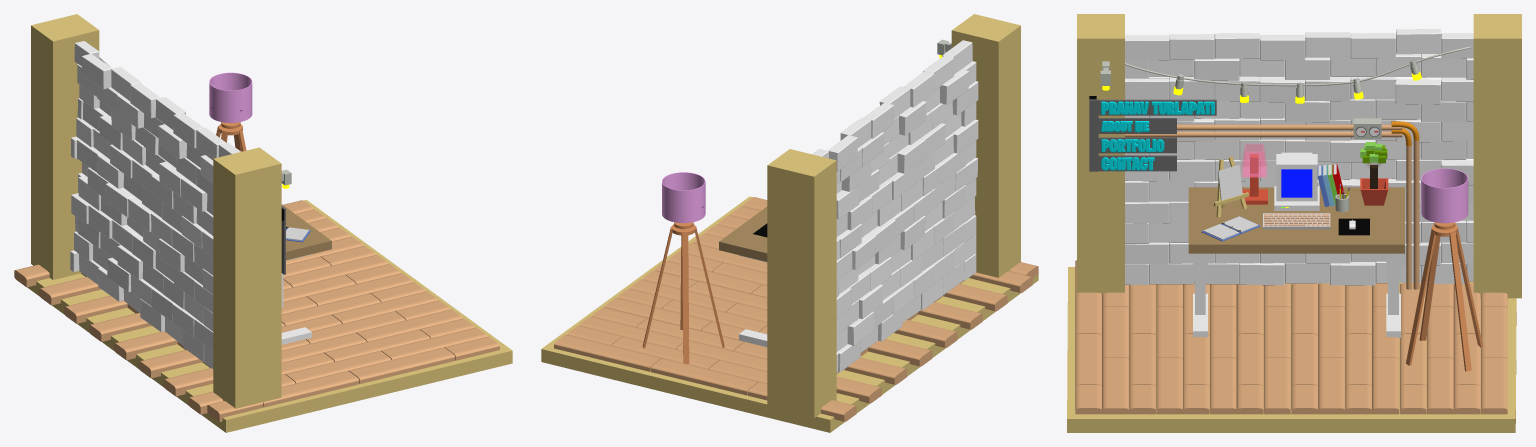
Rendered from personal_site.glb.
3 renders of one model, left to right at view 1: azimuth 30°, elevation 25°; view 2: azimuth 150°, elevation 25°; view 3: azimuth 270°, elevation 25°, orthographic. The views are drawn at different scales.
Visible parts, largest first — view 1: Cube.001, Cube, Cube.004, Cylinder.028, Cube.005, Cube.122, Cube.006, Cube.007, Cube.096, Cube.020, Cube.093, Cube.102 (+52 smaller); view 2: Cube, Cube.001, Cube.004, Cylinder.027, Cylinder.028, Cube.128, Cube.127, Cylinder.001, Cube.115, Cube.133, Cube.108, Cube.093 (+50 smaller); view 3: Cube, Cube.004, Cube.001, Cylinder.001, Cylinder.026, Cylinder.027, Cube.008, Cylinder.028, Cylinder.034, Text.003, Cube.006, Cube.102 (+127 smaller).
Boxes of the visible parts, x1,y1,x2,y2 form: Cube.001: (213, 147, 281, 408); Cube: (31, 14, 99, 279); Cube.004: (27, 200, 512, 432); Cylinder.028: (209, 72, 252, 122); Cube.005: (348, 347, 455, 383); Cube.122: (263, 371, 359, 407); Cube.006: (380, 327, 487, 359); Cube.007: (356, 309, 462, 341); Cube.096: (285, 351, 391, 383); Cube.020: (331, 291, 437, 323); Cube.093: (306, 273, 412, 305); Cube.102: (283, 255, 387, 287); Cube: (767, 149, 836, 417); Cube.001: (951, 14, 1020, 277); Cube.004: (541, 196, 1038, 432); Cylinder.027: (642, 206, 724, 363); Cylinder.028: (662, 172, 705, 223); Cube.128: (651, 358, 758, 395); Cube.127: (554, 335, 661, 371); Cylinder.001: (719, 206, 767, 261); Cube.115: (579, 316, 682, 349); Cube.133: (612, 336, 719, 369); Cube.108: (604, 298, 712, 331); Cube.093: (655, 261, 762, 294); Cube: (1473, 14, 1521, 298); Cube.004: (1067, 267, 1516, 432); Cube.001: (1077, 14, 1124, 294); Cylinder.001: (1188, 187, 1404, 253); Cylinder.026: (1125, 124, 1419, 289); Cylinder.027: (1406, 222, 1482, 371); Cube.008: (1274, 152, 1319, 210); Cylinder.028: (1421, 168, 1468, 223); Cylinder.034: (1193, 253, 1400, 337); Text.003: (1098, 99, 1216, 115); Cube.006: (1102, 357, 1129, 414); Cube.102: (1318, 357, 1345, 414).
Bounding box in the file's own units: 3.44 × 2.8 × 4.21.
